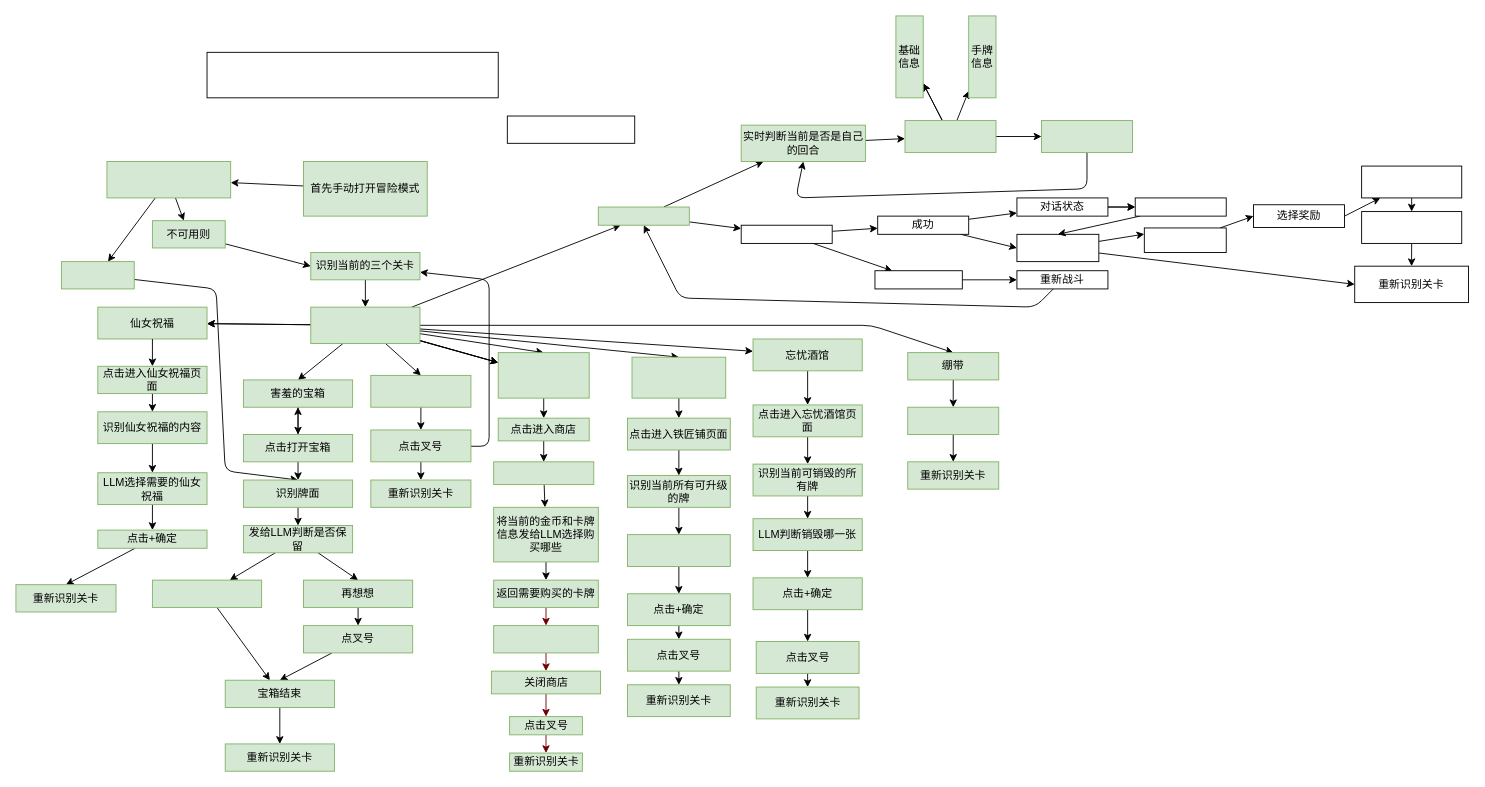
The diagram is 1485 pixels wide and 787 high, and some of its shapes have lost their labels. The shapes that lost their labels are listed below. From the top down, each one's centre as x and y in pixels, then its label:
At point 352,74: "月圆之夜LLM自动脚本实现流程图".
At point 570,129: "目前只适配游侠".
At point 950,136: "如果是则开始获取信息".
At point 1086,136: "将信息发送给LLM判断出哪张牌".
At point 168,179: "识别当前角色技能是否可用".
At point 1411,181: "识别当前可以获得的内容".
At point 643,215: "战斗".
At point 1180,206: "选择对话".
At point 786,233: "判断战斗结果".
At point 1057,247: "点击跳过胜利页面".
At point 1184,240: "升级页面".
At point 1411,227: "选择".
At point 97,275: "可用则点击".
At point 918,279: "失败".
At point 365,325: "LLM选择关卡".
At point 420,390: "下个路口".
At point 543,375: "老猫商店".
At point 678,377: "铁匠铺".
At point 953,420: "全部使用".
At point 543,473: "识别卡牌名字和价钱".
At point 678,550: "LLM判断升级哪一张".
At point 207,593: "拾取".
At point 545,639: "购买".
